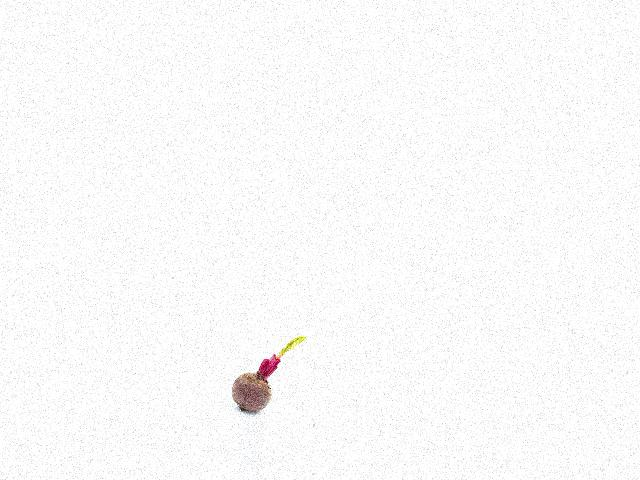beet: (231, 336, 304, 411)
